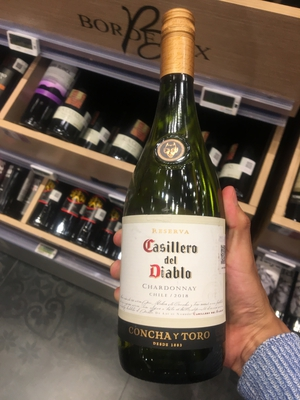casillero del diablo chardonnay: (112, 10, 235, 399)
